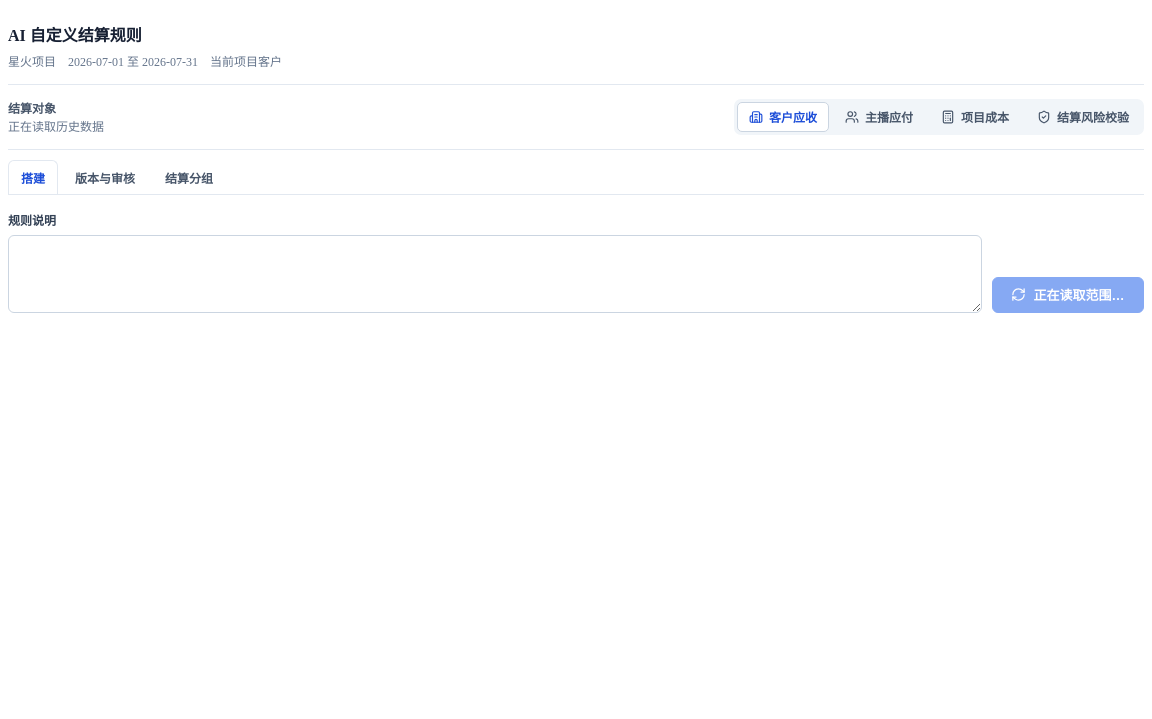
Test case: CustomSettlementRuleWorkspace › prompts legacy sessions to rerun without showing fabricated amounts
Click the button "主播应付": (879, 117) [833,102,925,132]
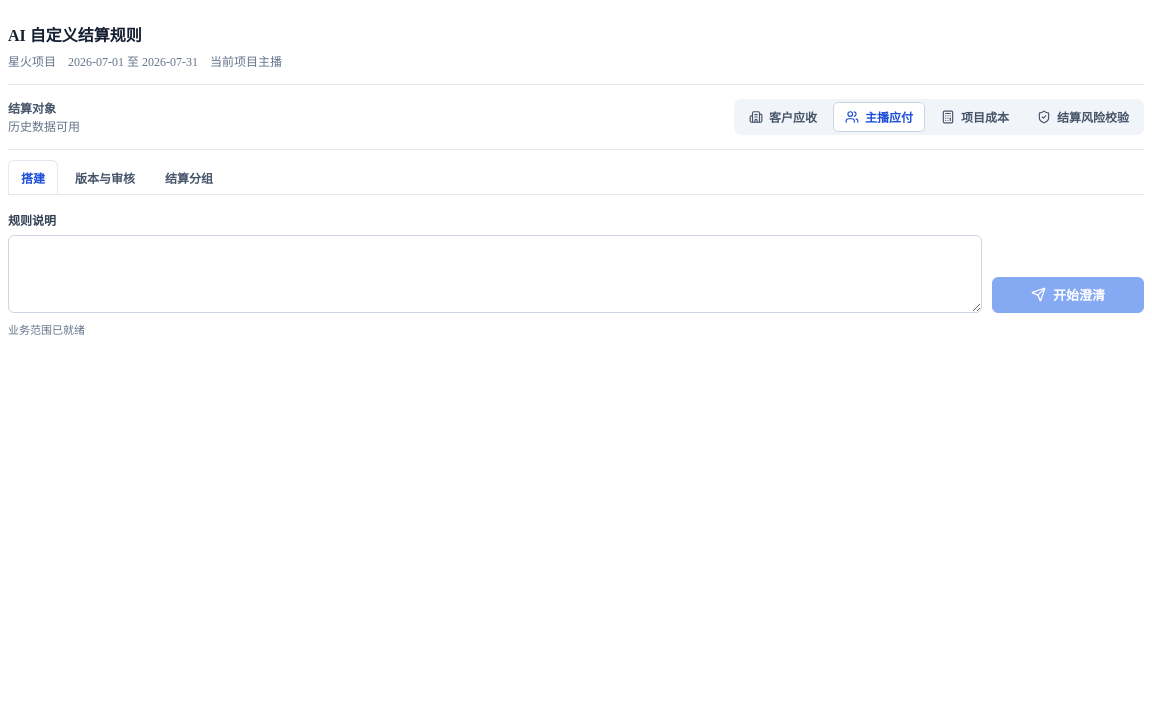
In the text box labelled "规则说明": (495, 274) [8,235,982,313], type "每场按直播时长和单价结算"
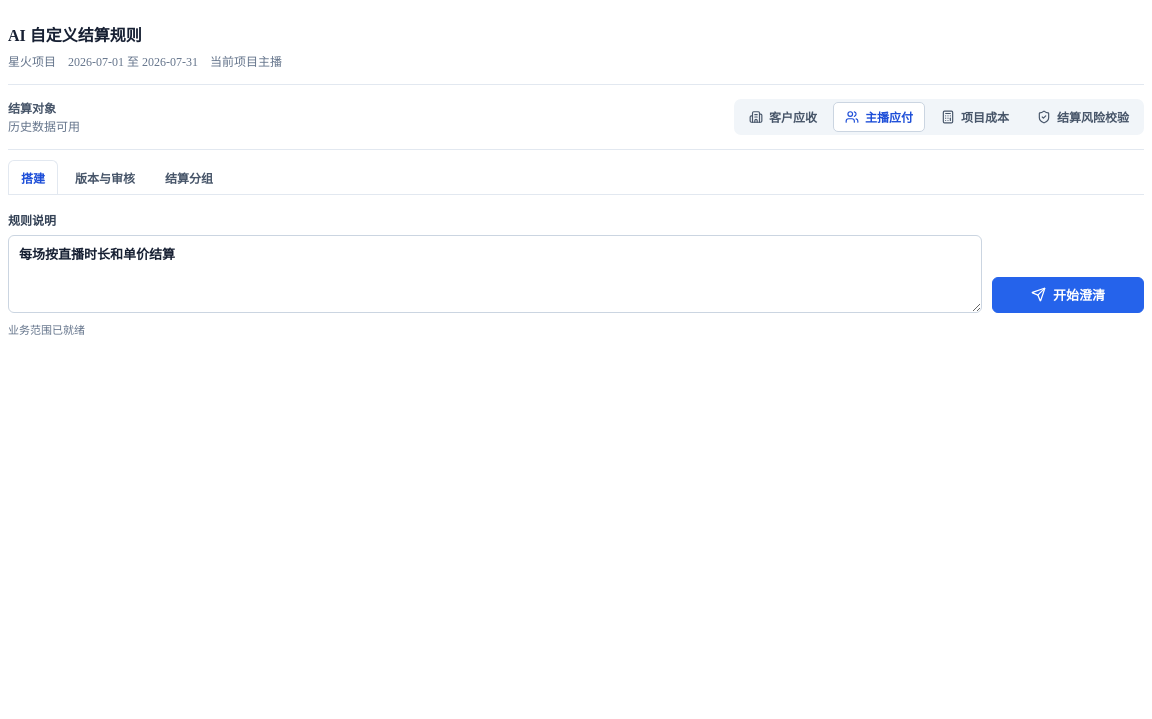
Click the button "开始澄清": (1068, 295) [992,277,1144,313]
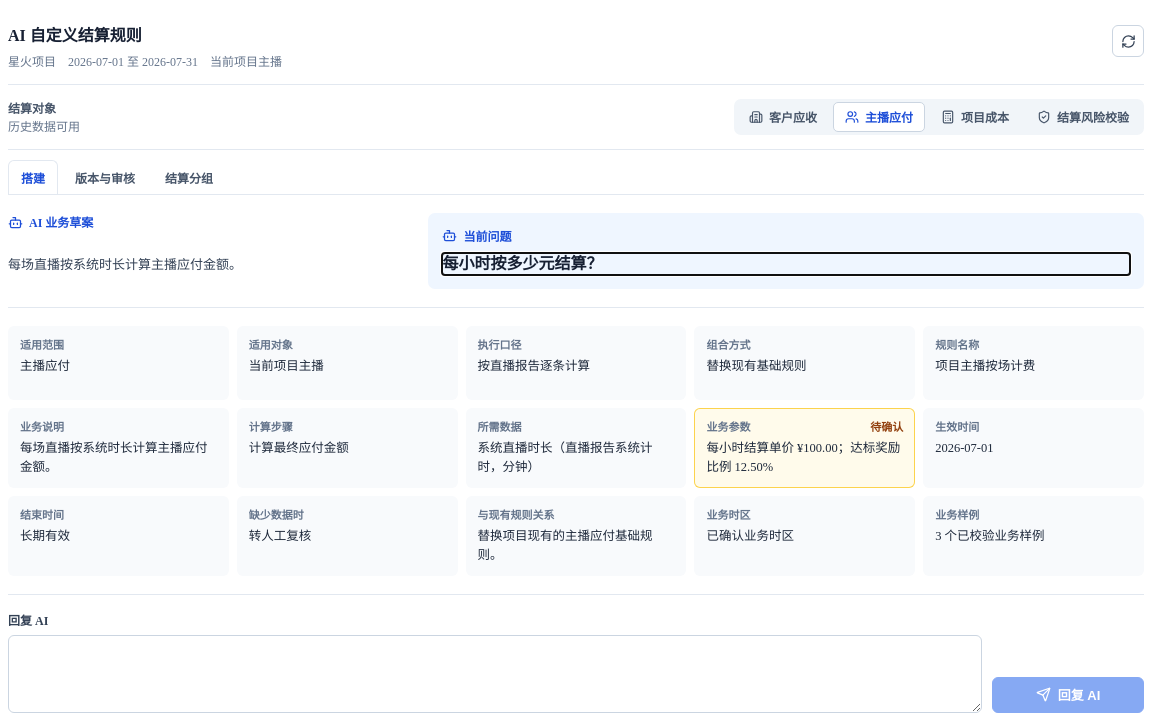
Check: the heading "每小时按多少元结算？" is shown, box [442,255,602,272]
Click the button named "刷新会话": (1128, 41) [1112,25,1144,57]
(page scrolled)
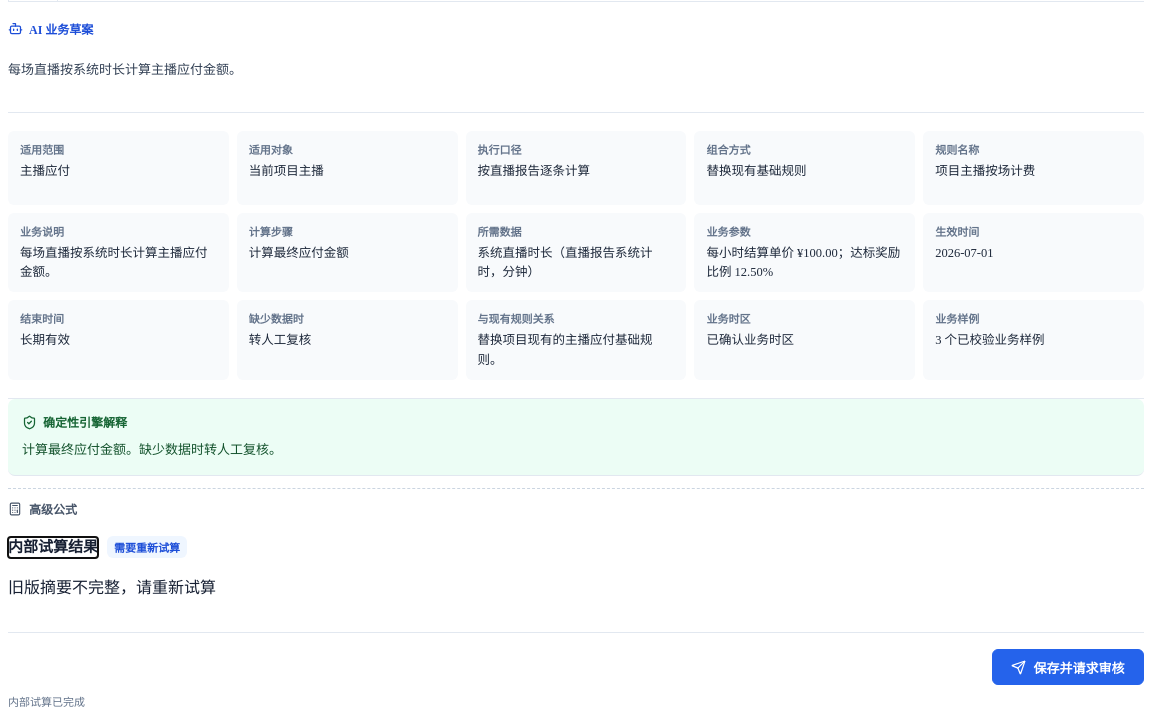
Check: the element "内部试算" does not show "¥0.00", box [8,518,1144,633]
Check: the element "内部试算" shows "旧版摘要不完整，请重新试算", box [8,579,216,596]
